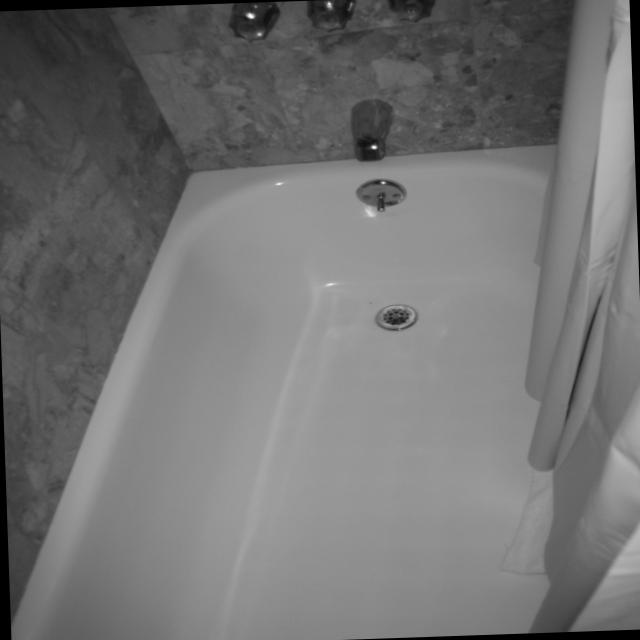bathtub: (10, 144, 553, 640)
curtain crop: (522, 0, 640, 632)
wall clock: (0, 9, 188, 618), (102, 0, 575, 174)
